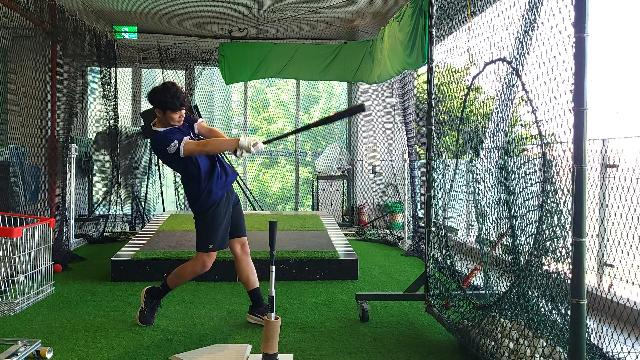baseball bat: (260, 103, 366, 147)
